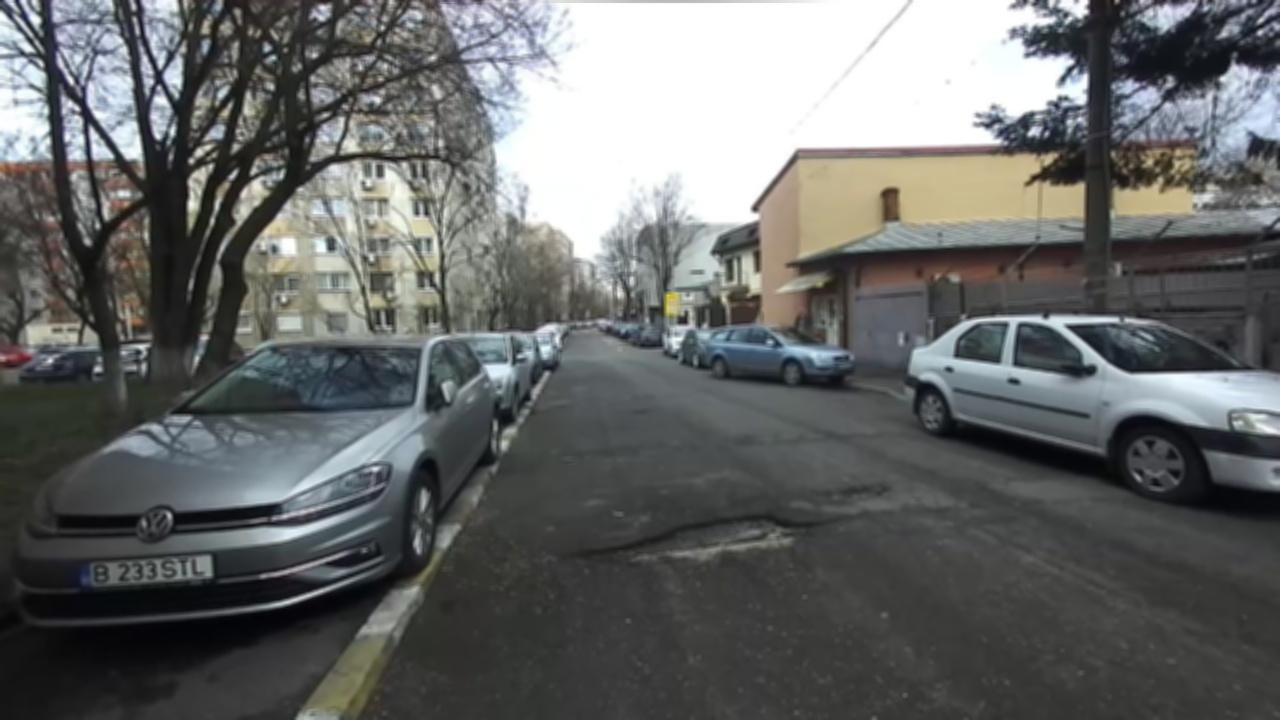pothole: (575, 510, 835, 574), (816, 476, 896, 504), (560, 453, 584, 464)
